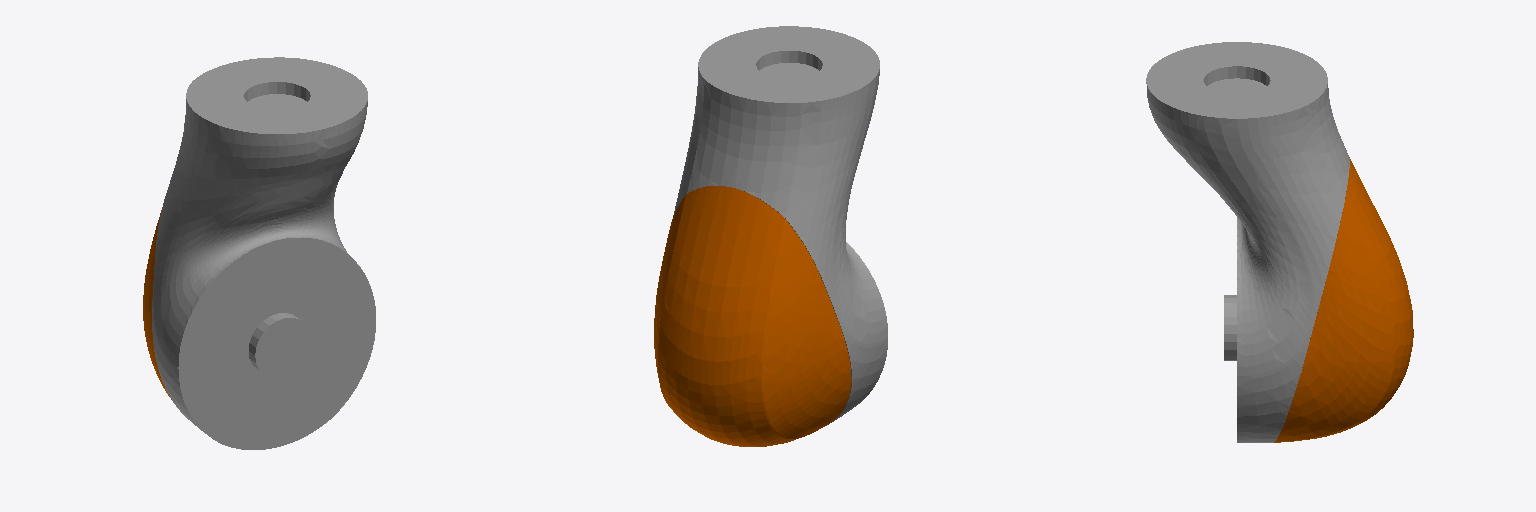
3 views of the same model, side by side, from view 1: azimuth 30°, elevation 25°; view 2: azimuth 150°, elevation 25°; view 3: azimuth 270°, elevation 25° (orthographic).
Parts seen in each view (by area): view 1: ShapeIndexedFaceSet; view 2: ShapeIndexedFaceSet; view 3: ShapeIndexedFaceSet.
Boxes of the visible parts, x1,y1,x2,y2 form: ShapeIndexedFaceSet: [143, 57, 375, 449]; ShapeIndexedFaceSet: [654, 26, 887, 446]; ShapeIndexedFaceSet: [1146, 42, 1413, 442].
Bounding box in the file's own units: 0.171 × 0.2899 × 0.2001.